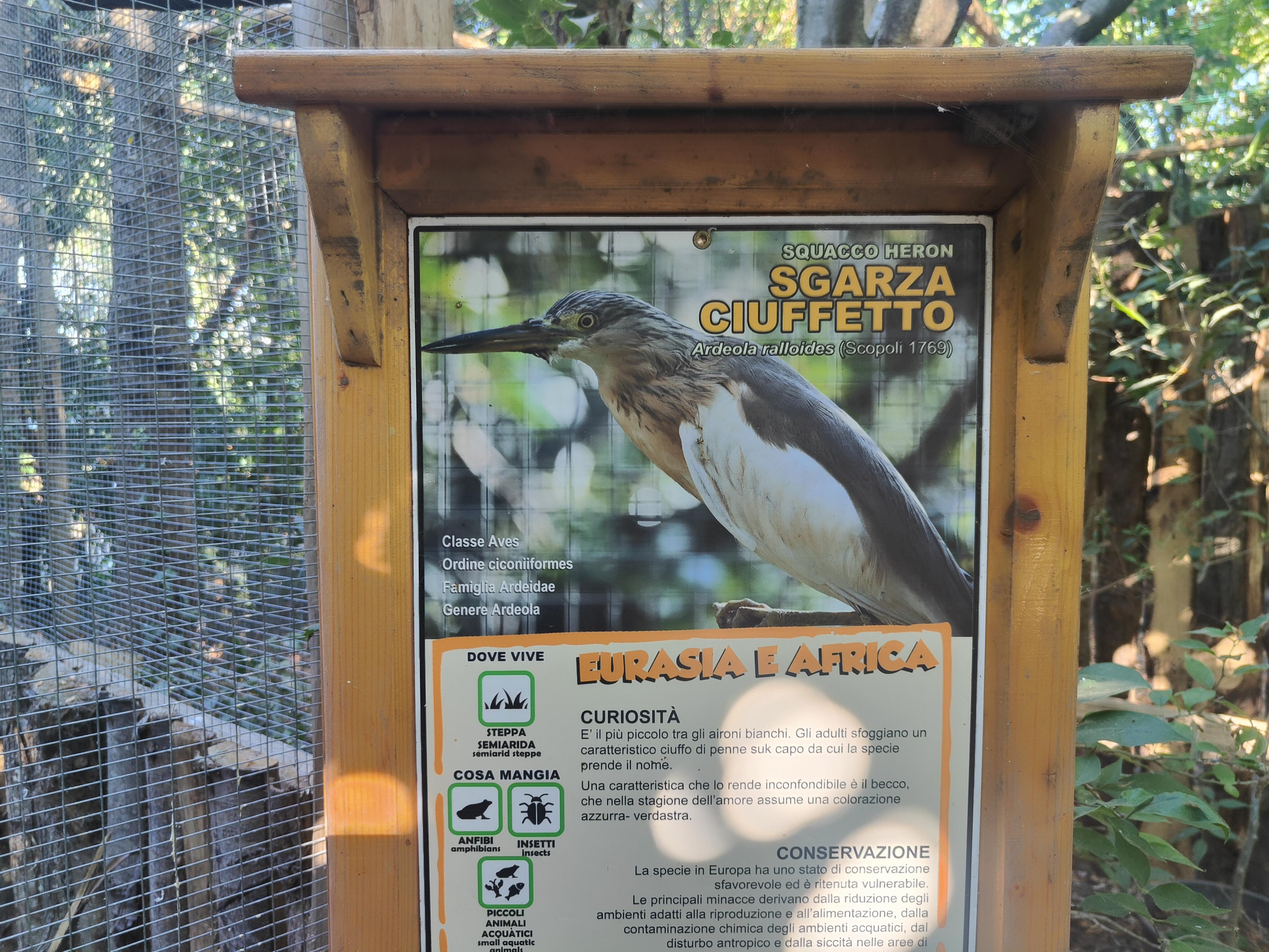apple: (422, 289, 974, 626)
